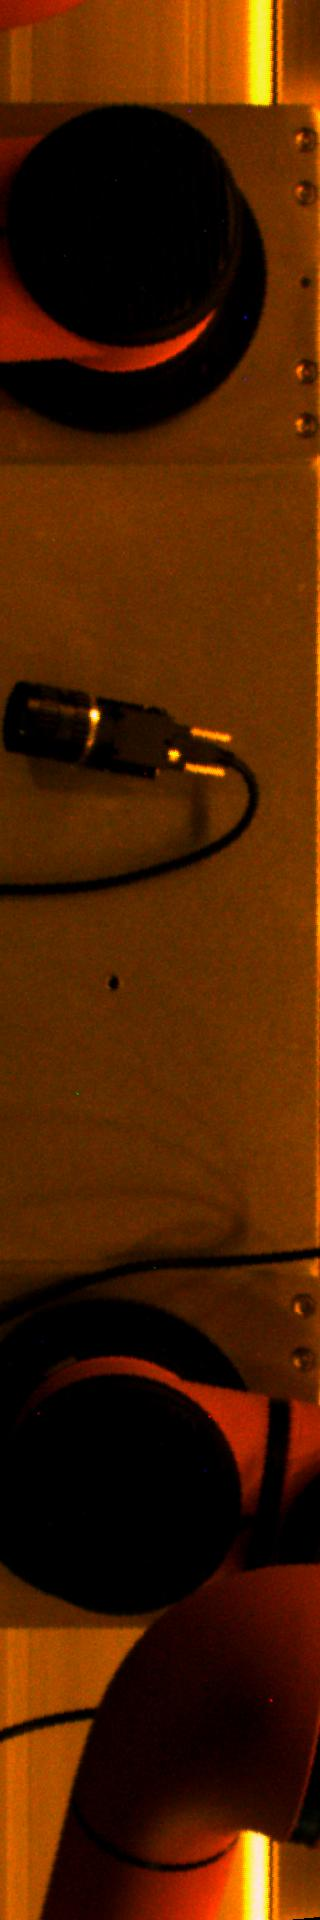keyPoint_2: (98, 969, 128, 998)
